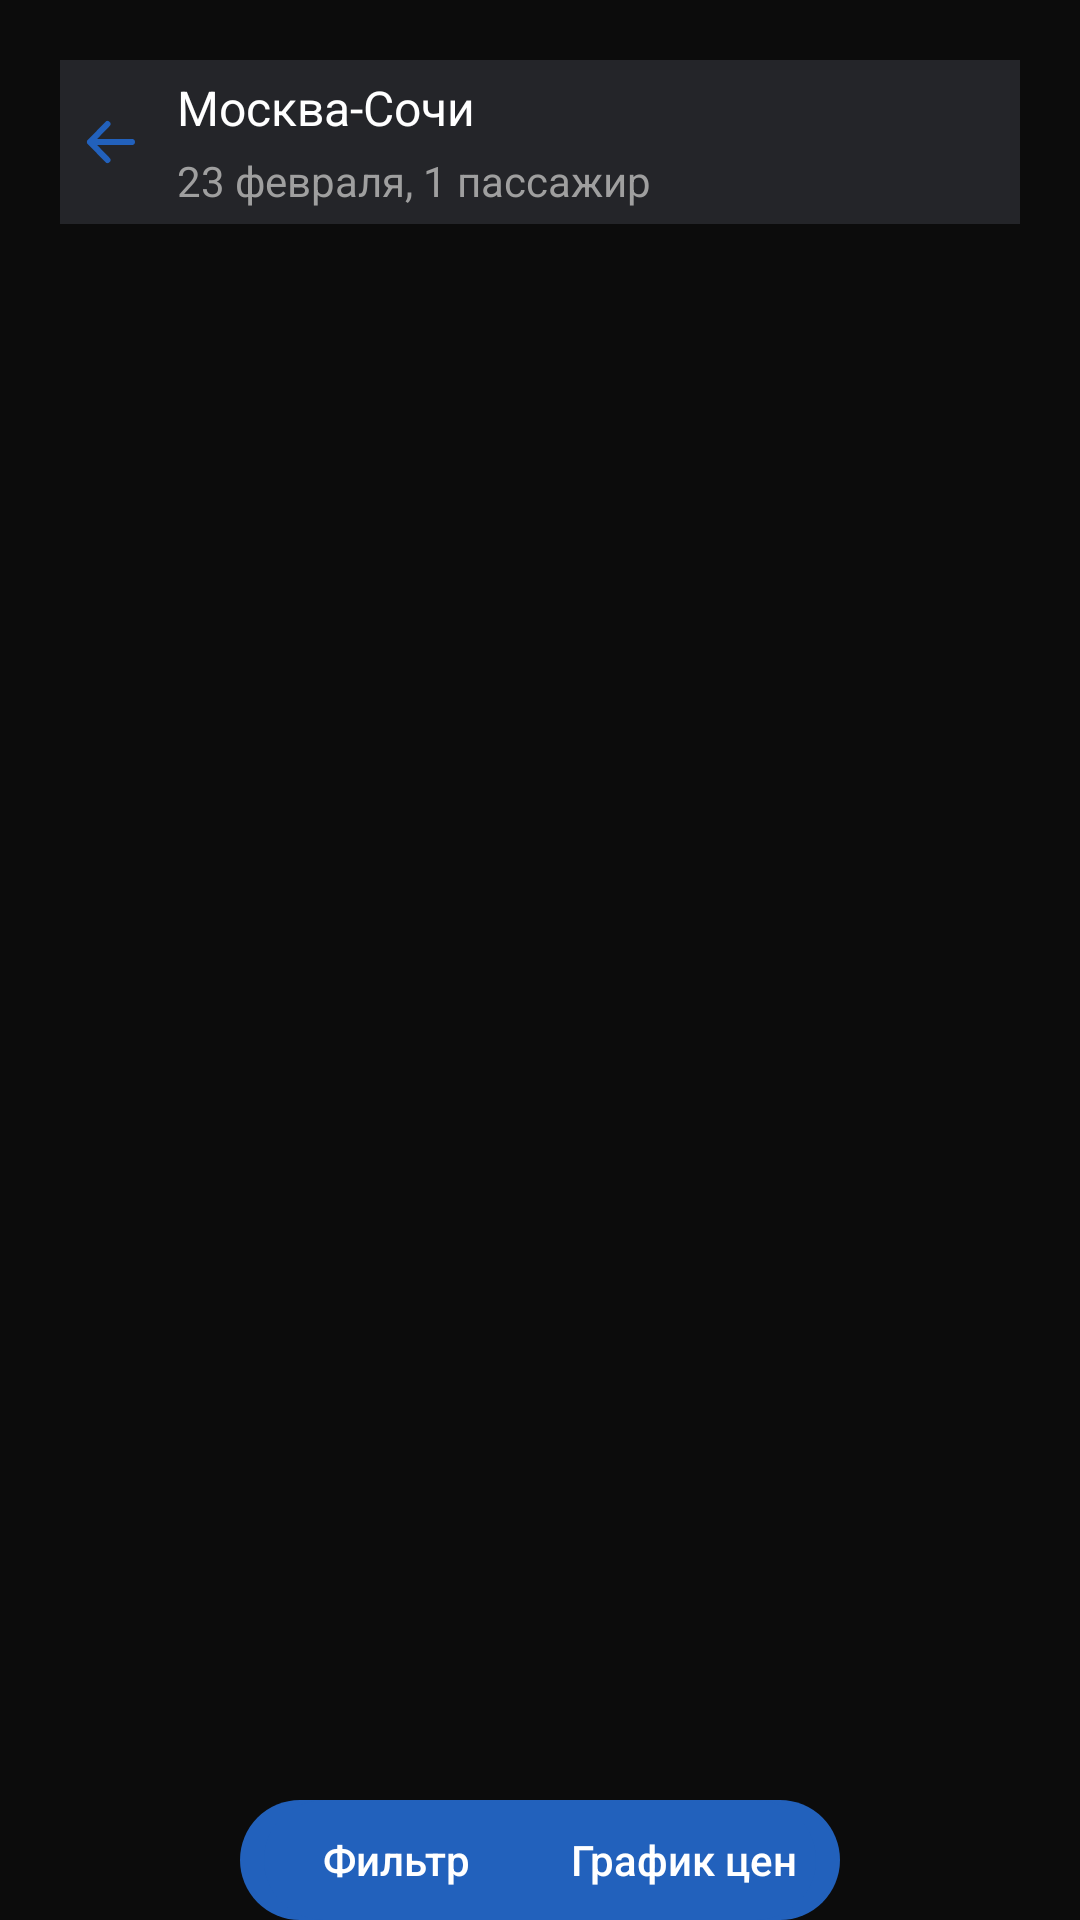

Screen size 1080w x 1920h. Icon name, then its center in pixels as point (x, y):
arrow back: point (111, 142)
